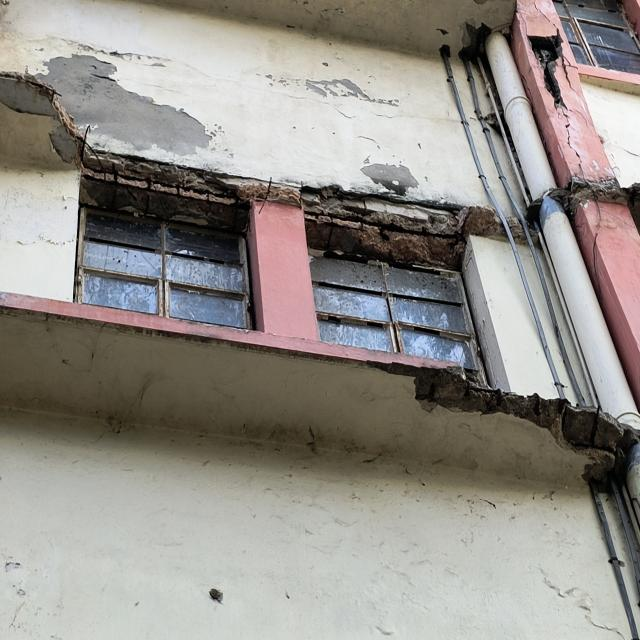crack: (560, 108, 584, 179), (560, 54, 586, 105), (533, 1, 561, 36), (519, 11, 528, 38)
peeling: (266, 74, 399, 107), (77, 43, 171, 68), (361, 164, 419, 195), (459, 22, 492, 63)
spalling: (414, 368, 640, 491), (269, 183, 500, 277), (35, 55, 211, 155), (79, 145, 268, 235), (0, 72, 83, 168), (549, 178, 640, 220), (529, 35, 564, 107)
